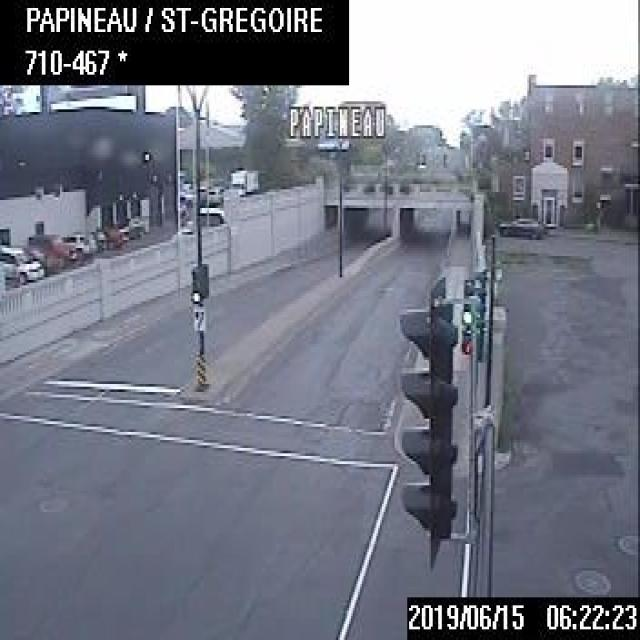vehicle: (0, 241, 42, 284), (493, 213, 547, 237), (58, 230, 96, 262), (229, 165, 260, 196)
